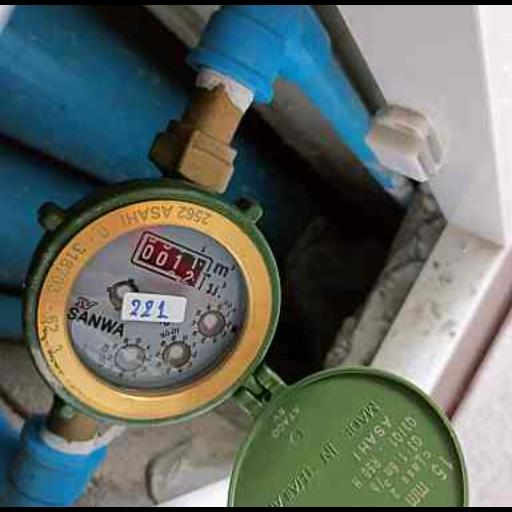0: (138, 236, 163, 266), (153, 242, 178, 272)
1: (179, 255, 207, 290), (167, 248, 192, 278)
border_water_meter_number: (129, 229, 214, 293)
